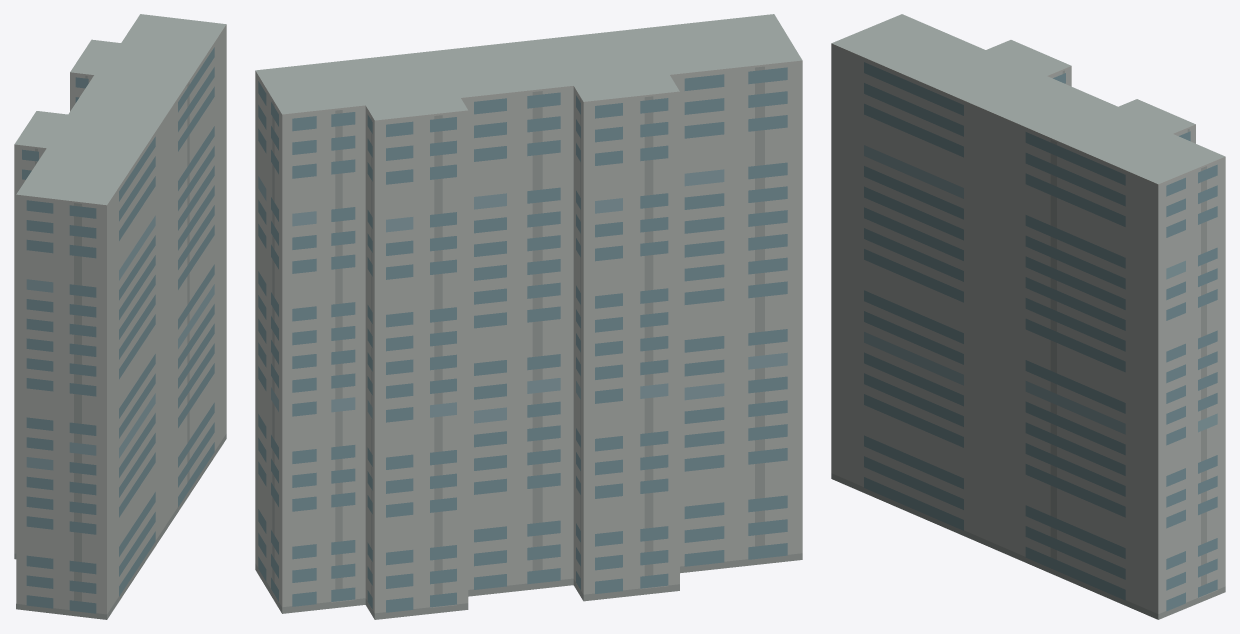
The model's file is residential-4b1f8685-fdff-4209-bd53-2da2430b31d7.glb.
3 views of the same model, side by side, from view 1: azimuth 30°, elevation 25°; view 2: azimuth 150°, elevation 25°; view 3: azimuth 270°, elevation 25° (orthographic). The views are drawn at different scales.
Visible parts, largest first — view 1: residential-4b1f8685-fdff-4209-bd53-2da2430b31d7.tmp; view 2: residential-4b1f8685-fdff-4209-bd53-2da2430b31d7.tmp; view 3: residential-4b1f8685-fdff-4209-bd53-2da2430b31d7.tmp.
Boxes of the visible parts, x1,y1,x2,y2 form: residential-4b1f8685-fdff-4209-bd53-2da2430b31d7.tmp: (14,14,226,619); residential-4b1f8685-fdff-4209-bd53-2da2430b31d7.tmp: (255,14,802,619); residential-4b1f8685-fdff-4209-bd53-2da2430b31d7.tmp: (831,14,1225,619).
Size of the model in its own units: 53.74 by 64.05 by 52.55.
